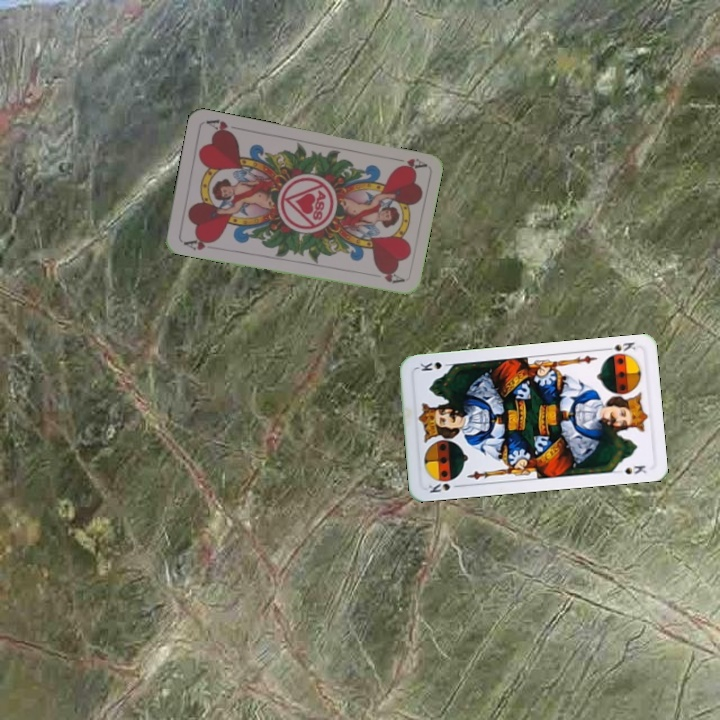HA: (387, 153, 428, 173), (180, 233, 218, 253)
SK: (600, 338, 638, 360), (424, 479, 464, 495)
